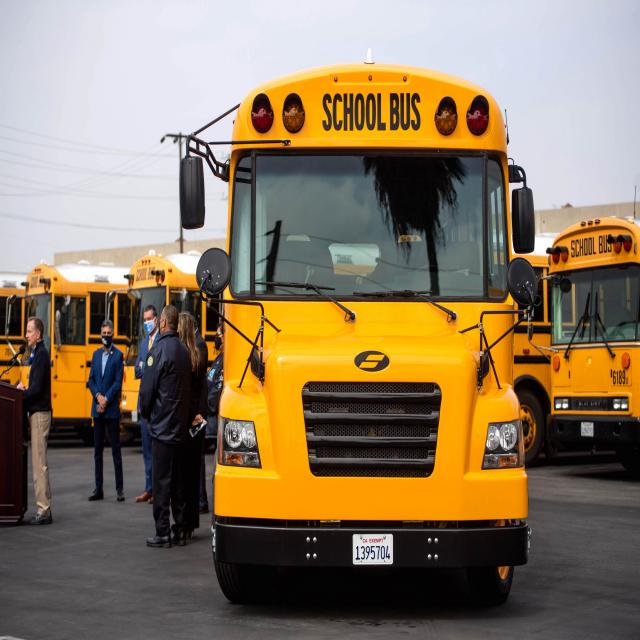bus: (173, 61, 541, 616), (18, 237, 219, 449), (541, 219, 640, 495)
